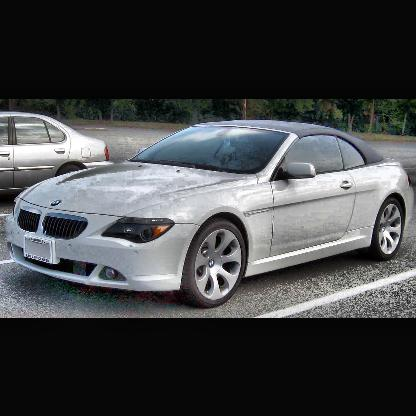BMW 6 Series Convertible 2007: (2, 115, 416, 312)
